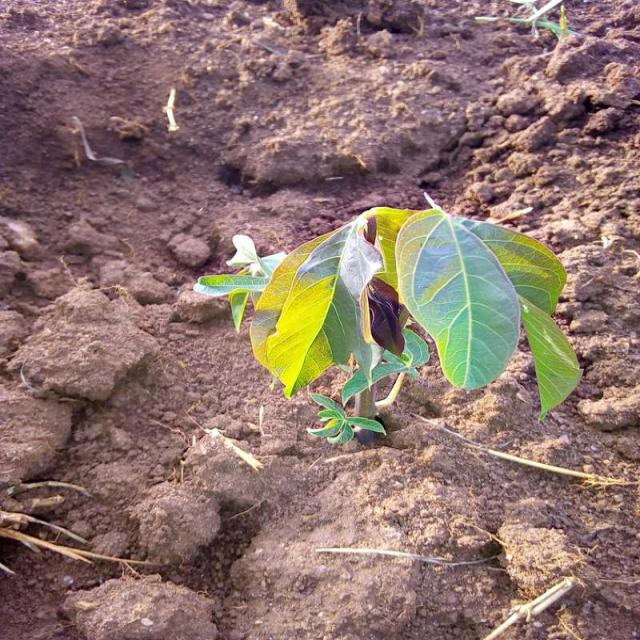cassava leaf: (193, 198, 582, 436), (248, 214, 386, 399), (394, 205, 520, 390)
